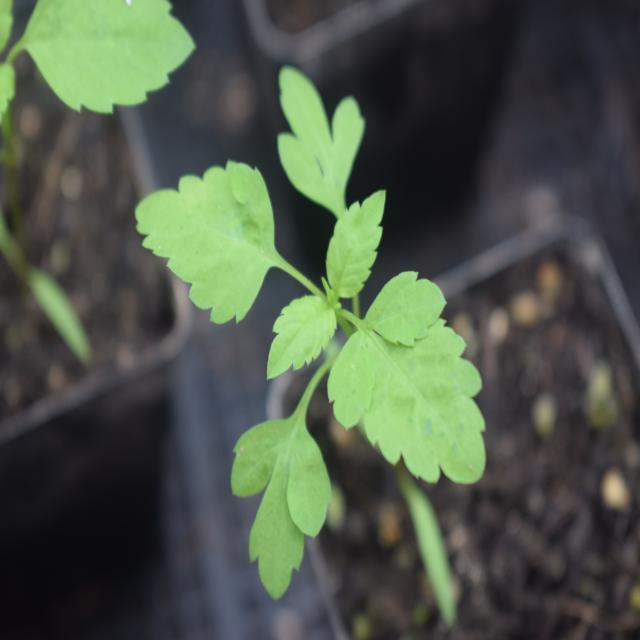Bidens pilosa: (138, 72, 490, 574)
